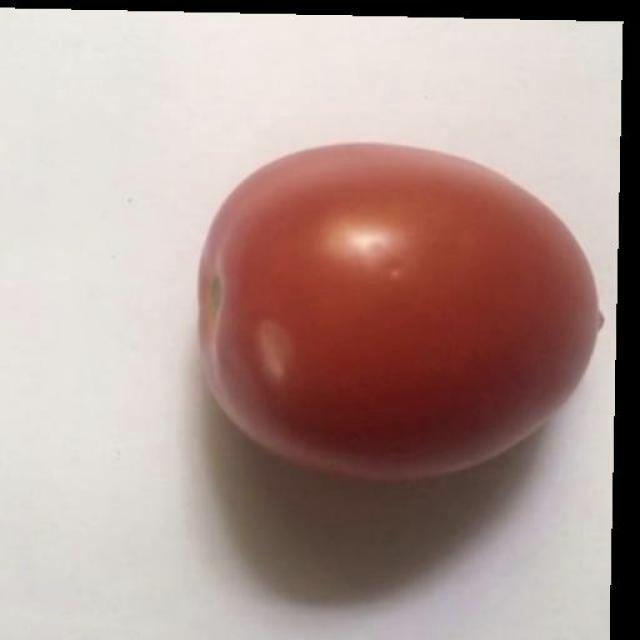tomato: (196, 144, 603, 486)
